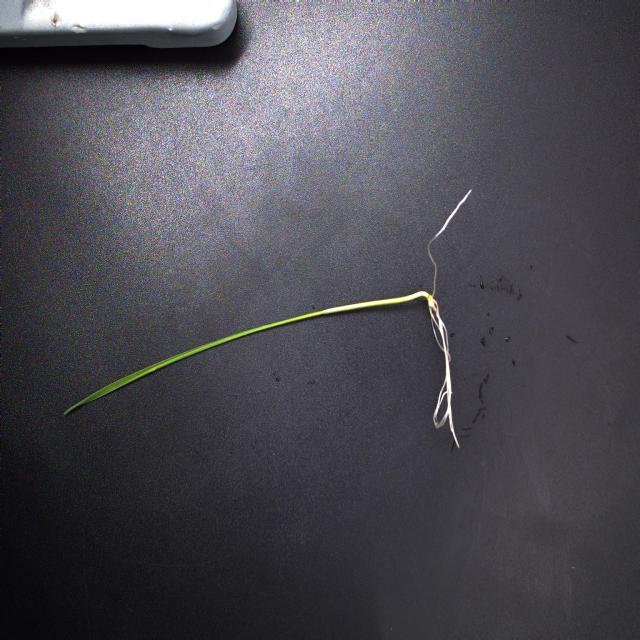leaf: (113, 335, 237, 387), (63, 382, 132, 415)
root: (428, 304, 461, 449), (428, 189, 472, 295)
stem: (237, 290, 423, 340)
